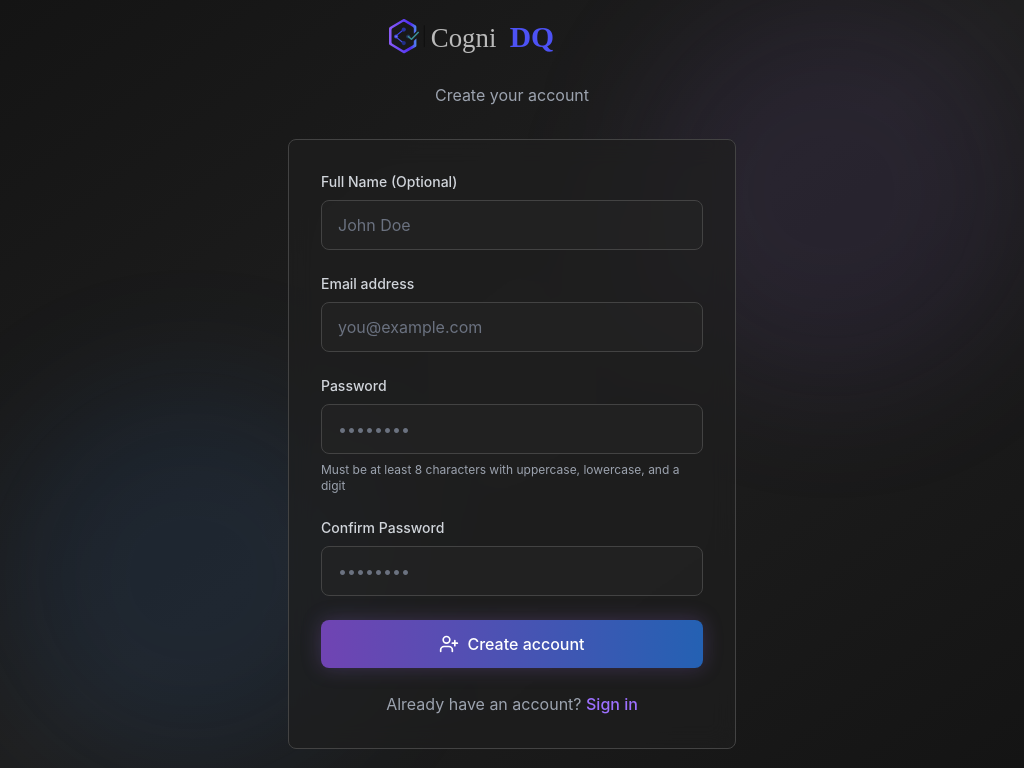
Test case: Register — 422 error handling (F131 P01) › T01-03: falls back to generic message when detail is absent
The width and height of the screenshot is (1024, 768).
Type "test@example.com" into the field with placeholder "you@example.com". click: (512, 327)
box: [321,302,703,352]
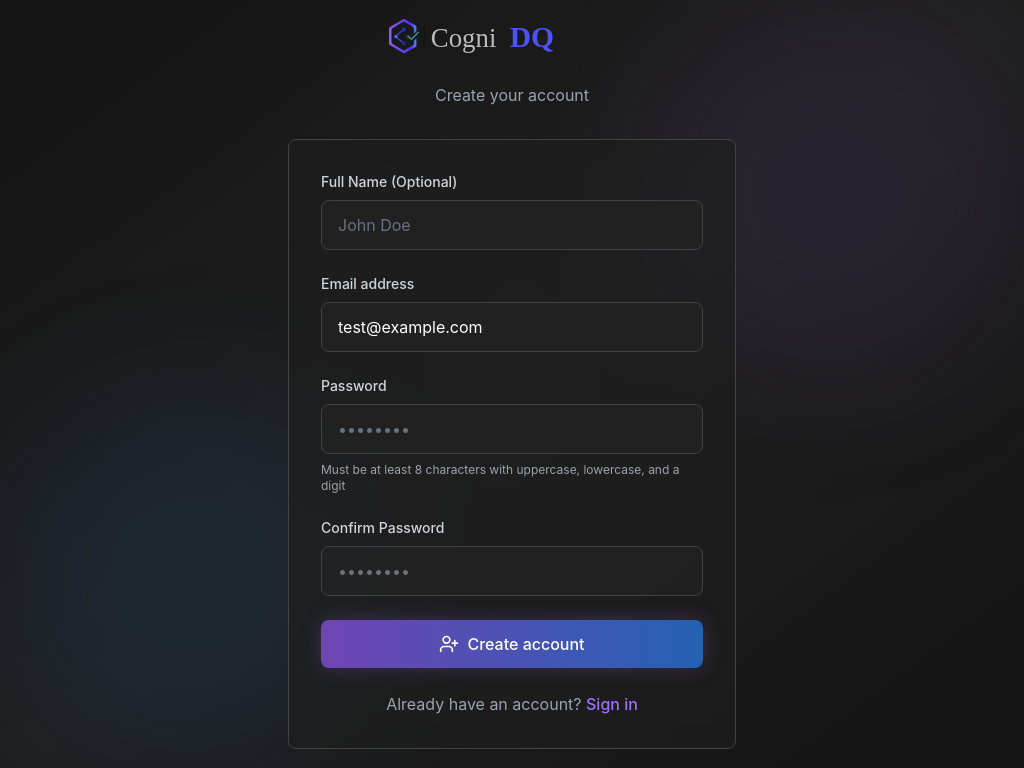
Type "ValidPass1" into the password field with placeholder "••••••••". click: (512, 429)
box: [321,404,703,454]
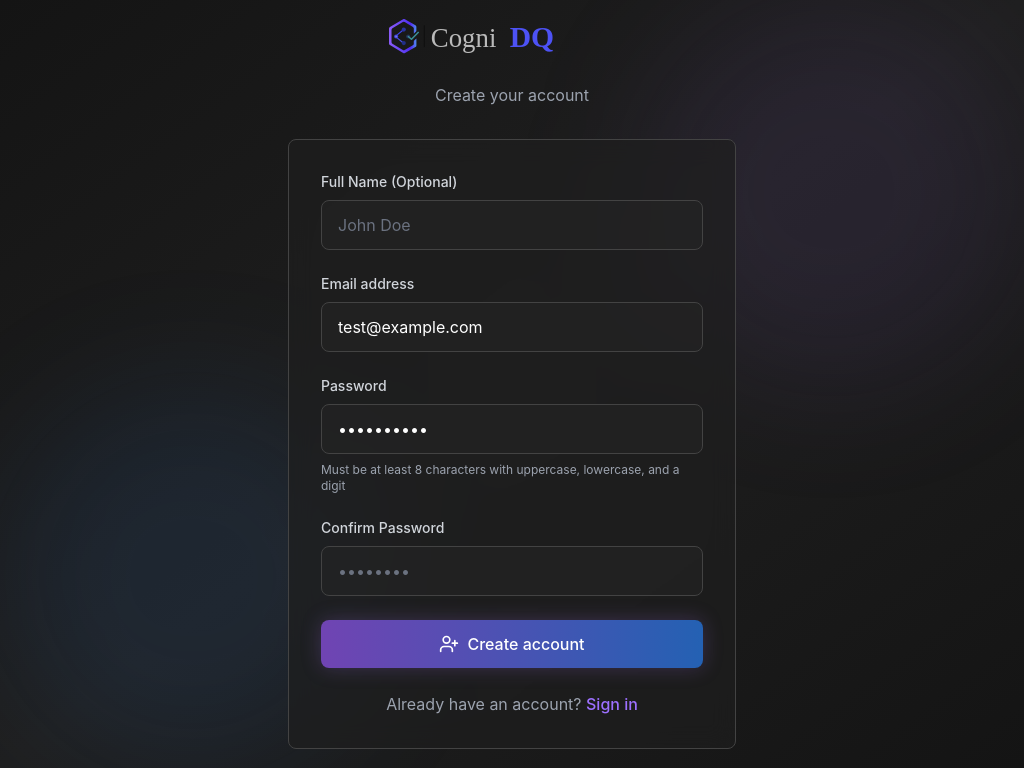
Type "ValidPass1" into the password field with placeholder "••••••••". click: (512, 571)
box: [321,546,703,596]
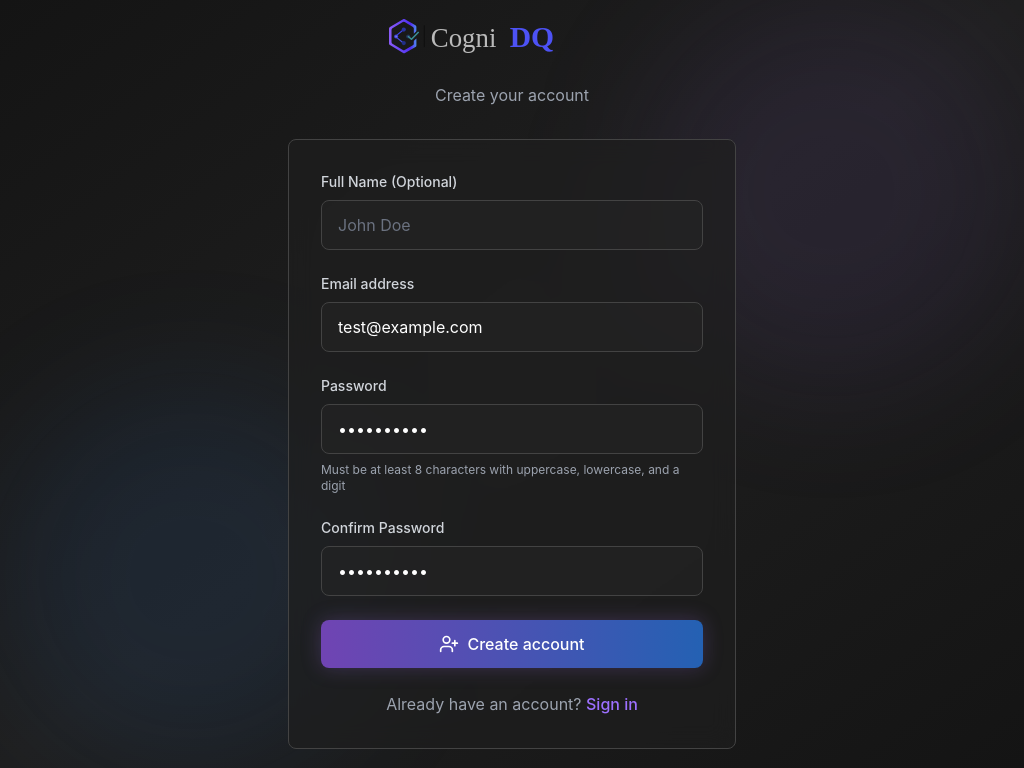
Submit the form from the button "Create account", box [321,620,703,668]
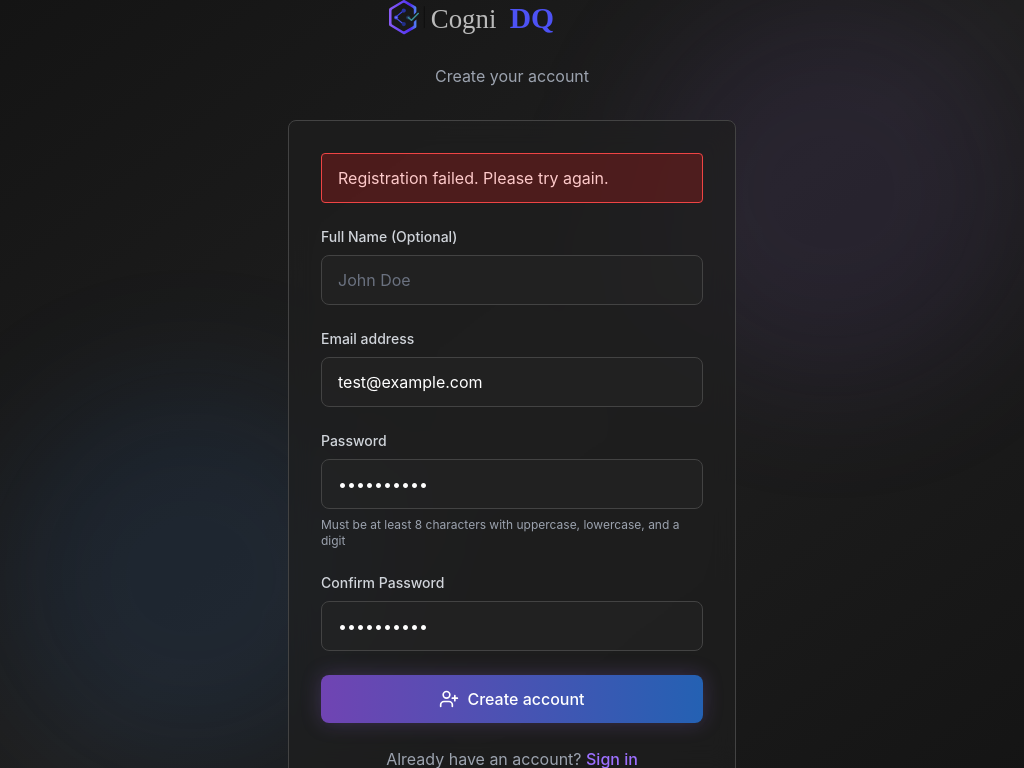
Expected: the text "Registration failed. Please try again." is shown, [321,153,703,203]
